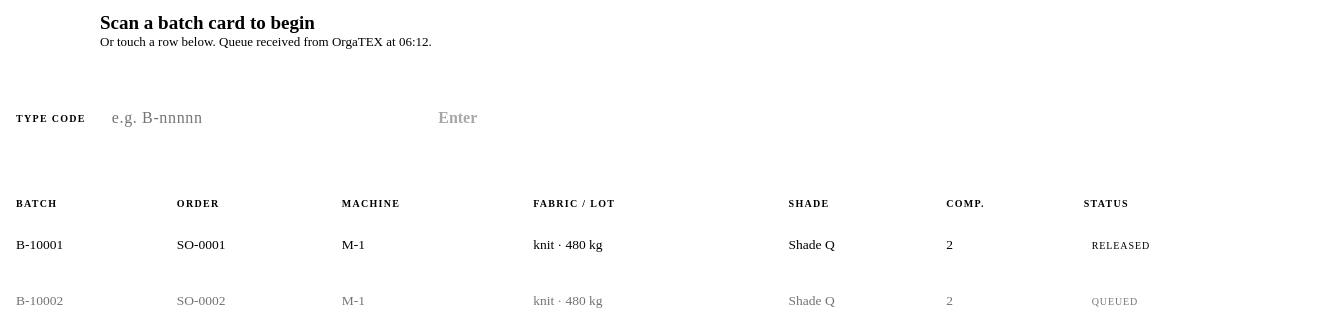
Test: SelectBatchScreen — selecting a batch (workbook Step 19) › shows the API message when another batch is already in progress
Click the row "B-10001 SO-0001 M-1 knit · 480 kg Shade Q 2 RELEASED" at (201, 244), box [16, 217, 1318, 273]
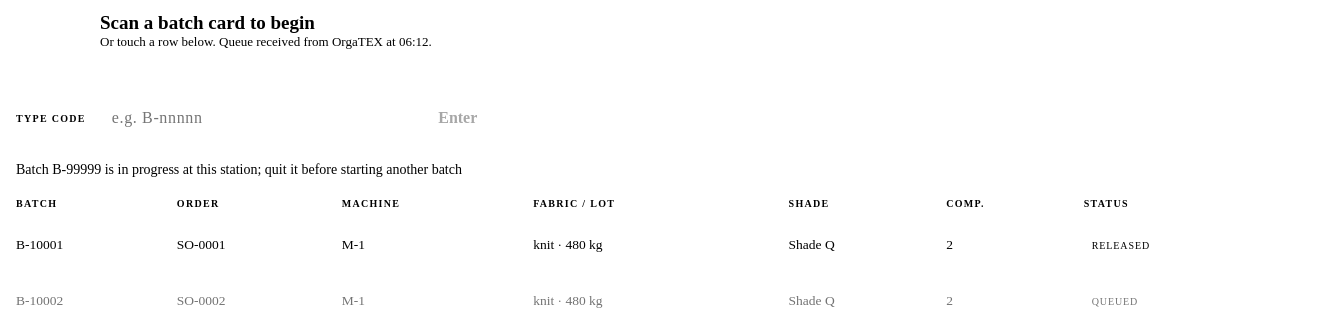
Now the text "is in progress at this station; quit it" is shown, box [16, 162, 462, 177]
